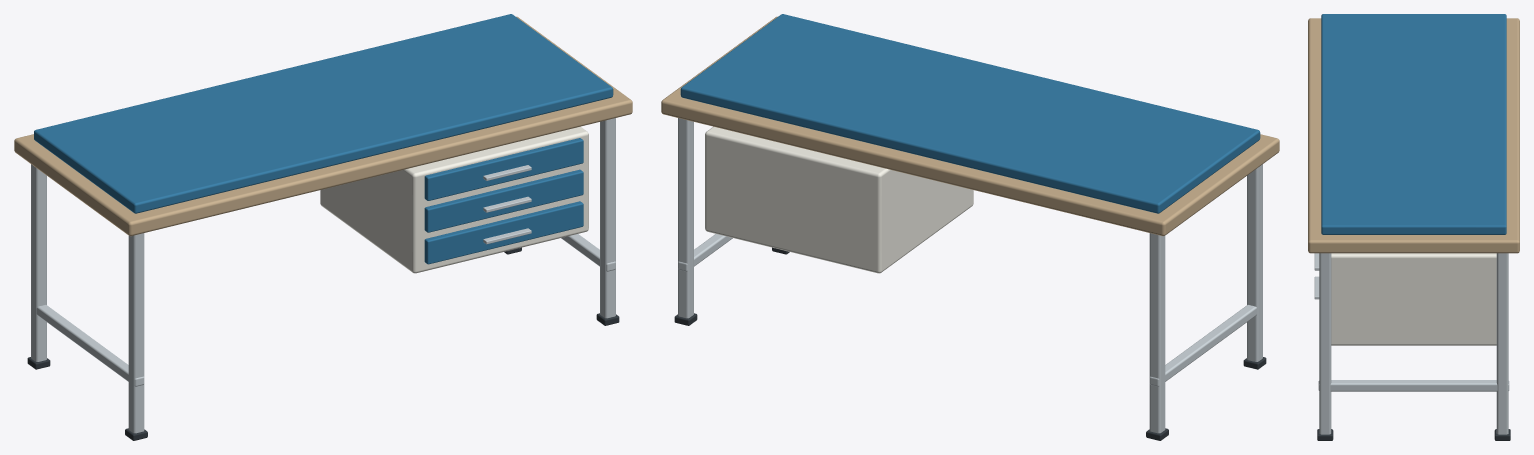
Rendered from curling-club-and-ice-maintenance-maintenance-workbench-fadcd7c5__31305.glb.
The picture shows the model from 3 angles, left to right: view 1: azimuth 30°, elevation 25°; view 2: azimuth 150°, elevation 25°; view 3: azimuth 270°, elevation 25°; orthographic projection. The views are drawn at different scales.
Parts seen in each view (by area): view 1: maintenance-workbench; view 2: maintenance-workbench; view 3: maintenance-workbench.
Part boxes in pixels (x1,y1,x2,y2): maintenance-workbench: [14, 14, 632, 440]; maintenance-workbench: [661, 14, 1279, 440]; maintenance-workbench: [1308, 14, 1519, 440].
Bounding box in the file's own units: 2 × 0.89 × 0.7999.
